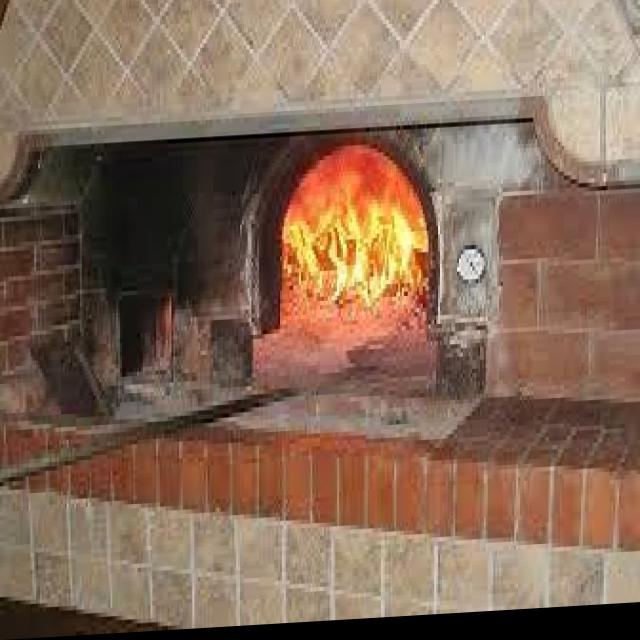fire: (267, 137, 436, 359)
